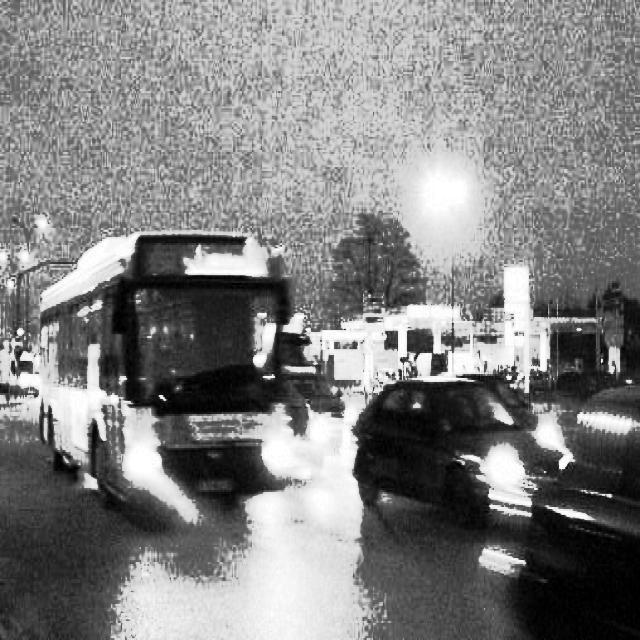Bus: (16, 218, 300, 542)
Car: (353, 373, 575, 546), (521, 361, 640, 640), (281, 347, 355, 440), (0, 341, 49, 413)
